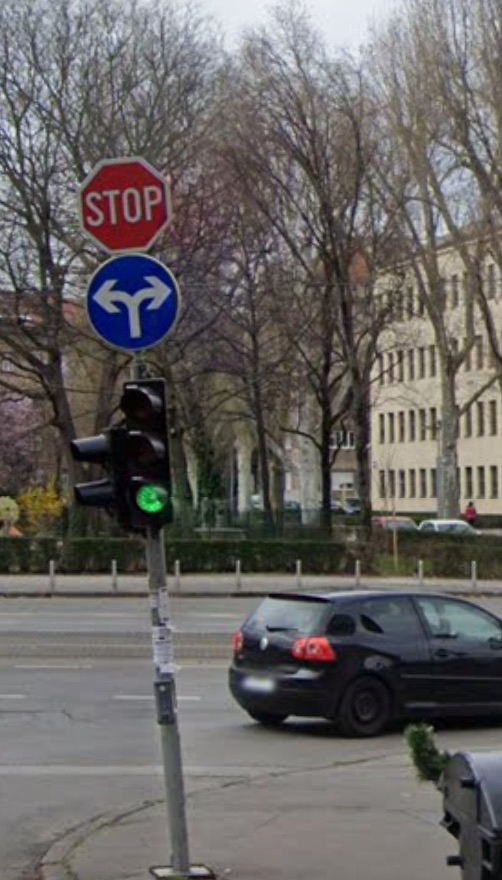Obavezno zaustavljanje: (78, 156, 172, 254)
